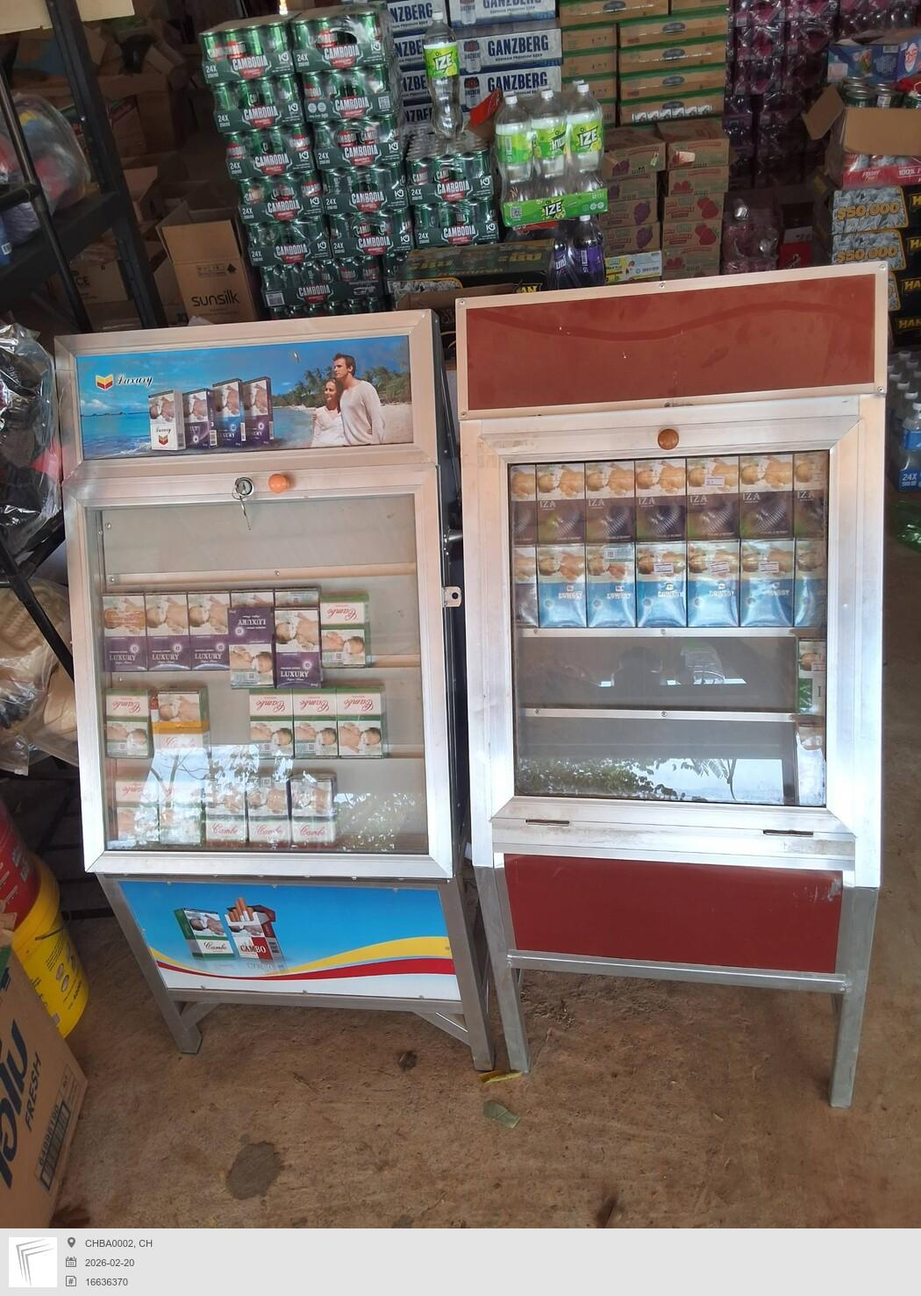cigarette_pack: (739, 540, 799, 623), (686, 456, 741, 544), (631, 458, 688, 542), (583, 543, 637, 624), (741, 455, 793, 539), (636, 546, 690, 626), (586, 460, 637, 544), (688, 544, 739, 628), (536, 463, 587, 545), (225, 607, 271, 692), (156, 683, 204, 763), (100, 593, 147, 674), (540, 545, 587, 626), (790, 540, 832, 630), (273, 606, 317, 687), (185, 592, 231, 668), (790, 451, 831, 535), (321, 592, 367, 666), (101, 686, 149, 756), (338, 687, 384, 758), (292, 770, 337, 842), (294, 683, 336, 760), (149, 593, 190, 671), (246, 769, 288, 841), (792, 638, 830, 717), (114, 770, 156, 841), (155, 777, 200, 842), (250, 690, 293, 758), (203, 775, 243, 840), (509, 467, 535, 546), (514, 547, 538, 626)
